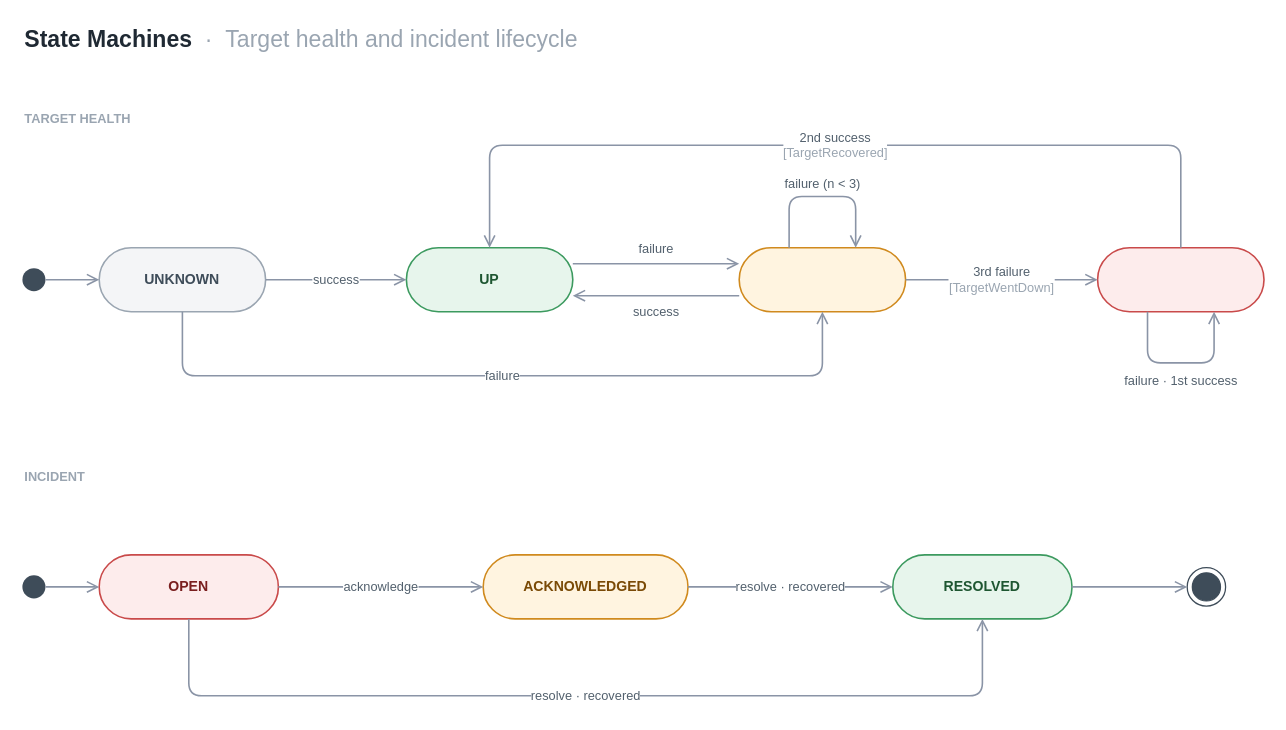
The diagram is 1286 pixels wide and 730 high, and some of its shapes have lost their labels. Here are the shapes that lost their labels. From the top down, the centre of each, then its label:
At point 822,279: "FAILING".
At point 1180,279: "DOWN".
